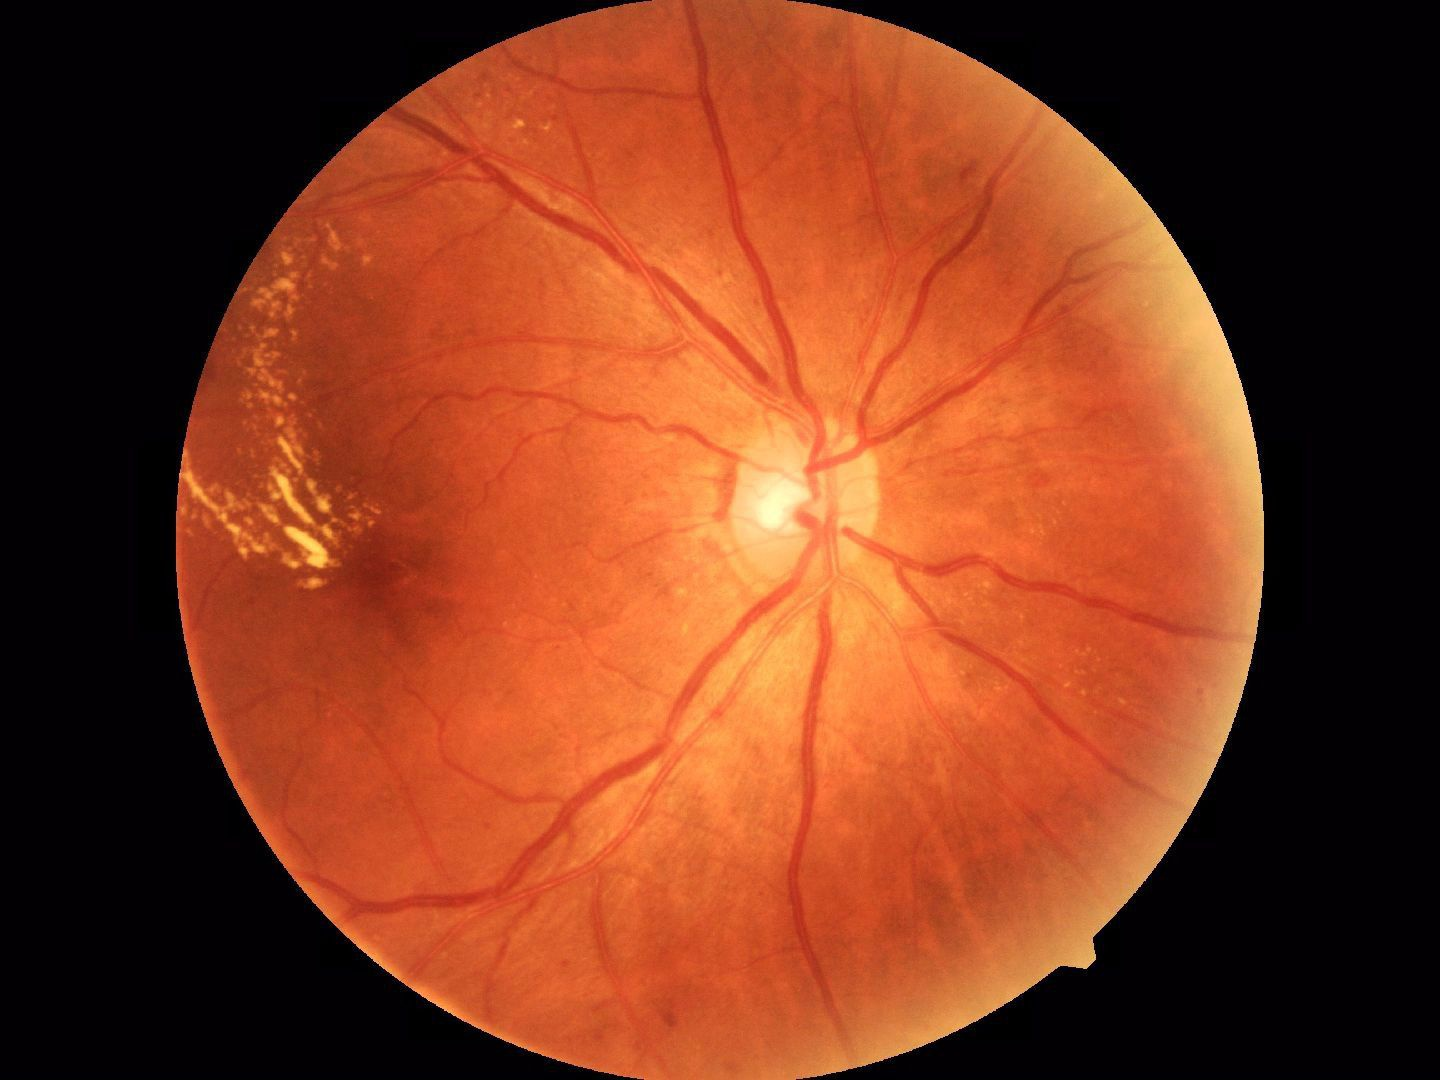Exudates: (200, 422, 369, 611), (238, 261, 305, 410)
Optic-Disc: (745, 434, 880, 581)
Venules: (469, 661, 718, 930), (531, 186, 830, 340)
